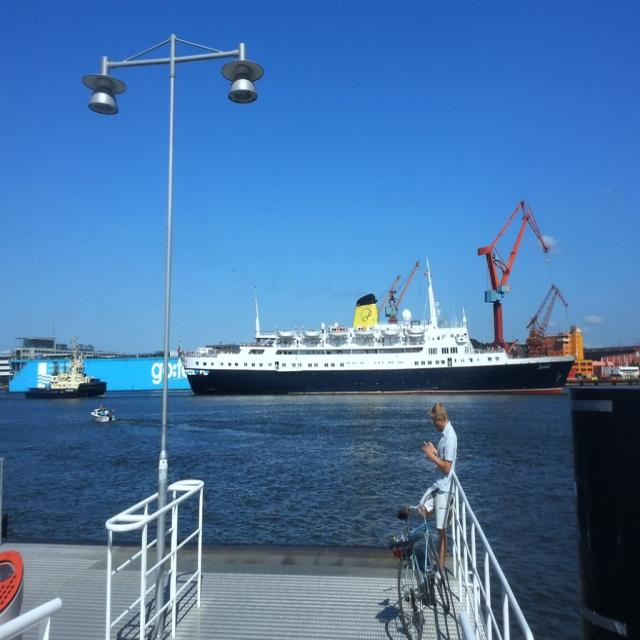Boat: (26, 344, 107, 399)
